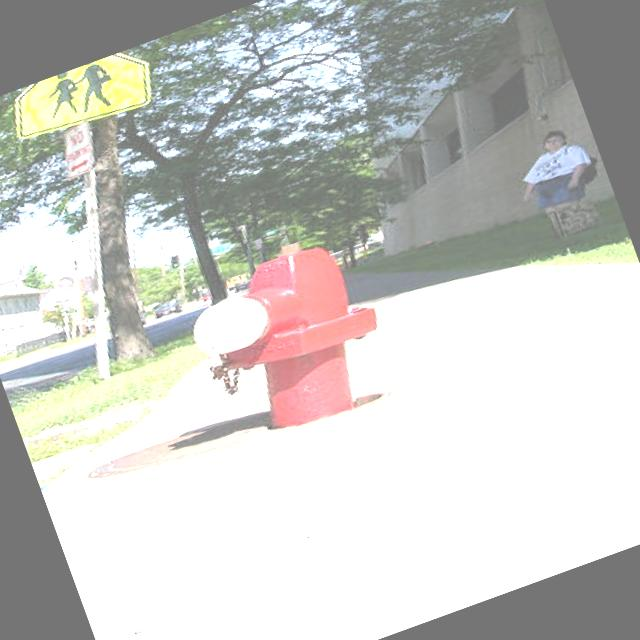Vehicle: (154, 299, 184, 320)
